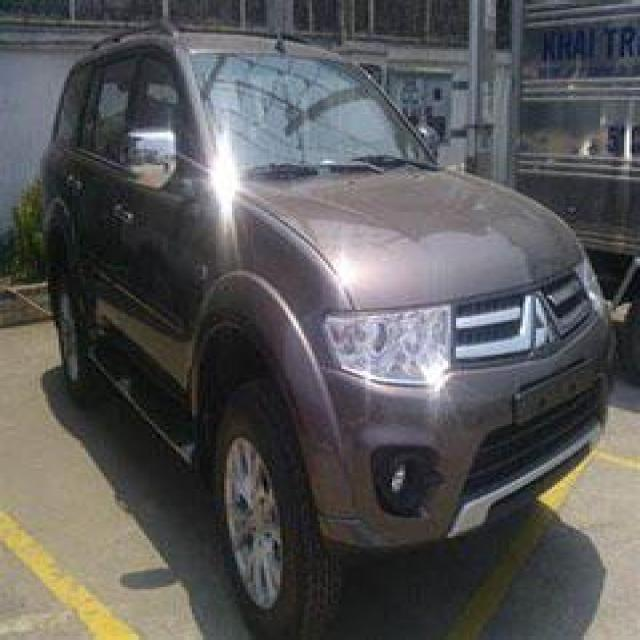car: (0, 13, 635, 631)
